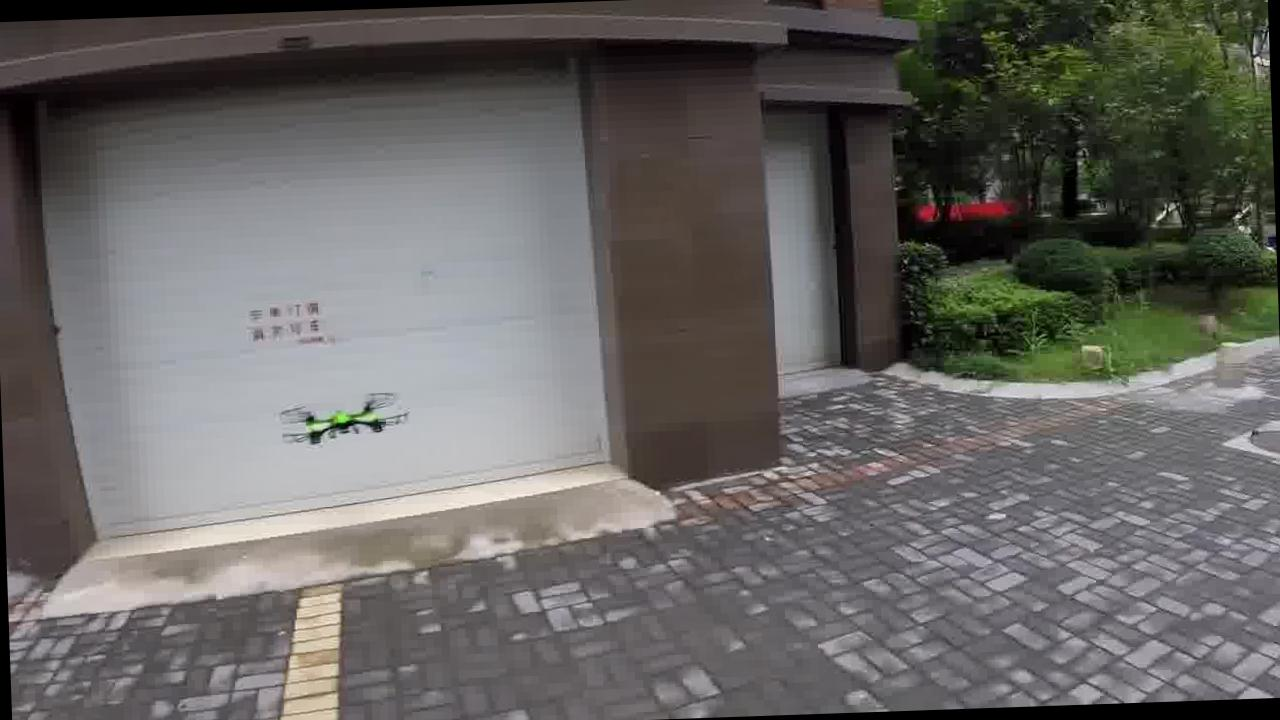drone: (266, 378, 428, 443)
